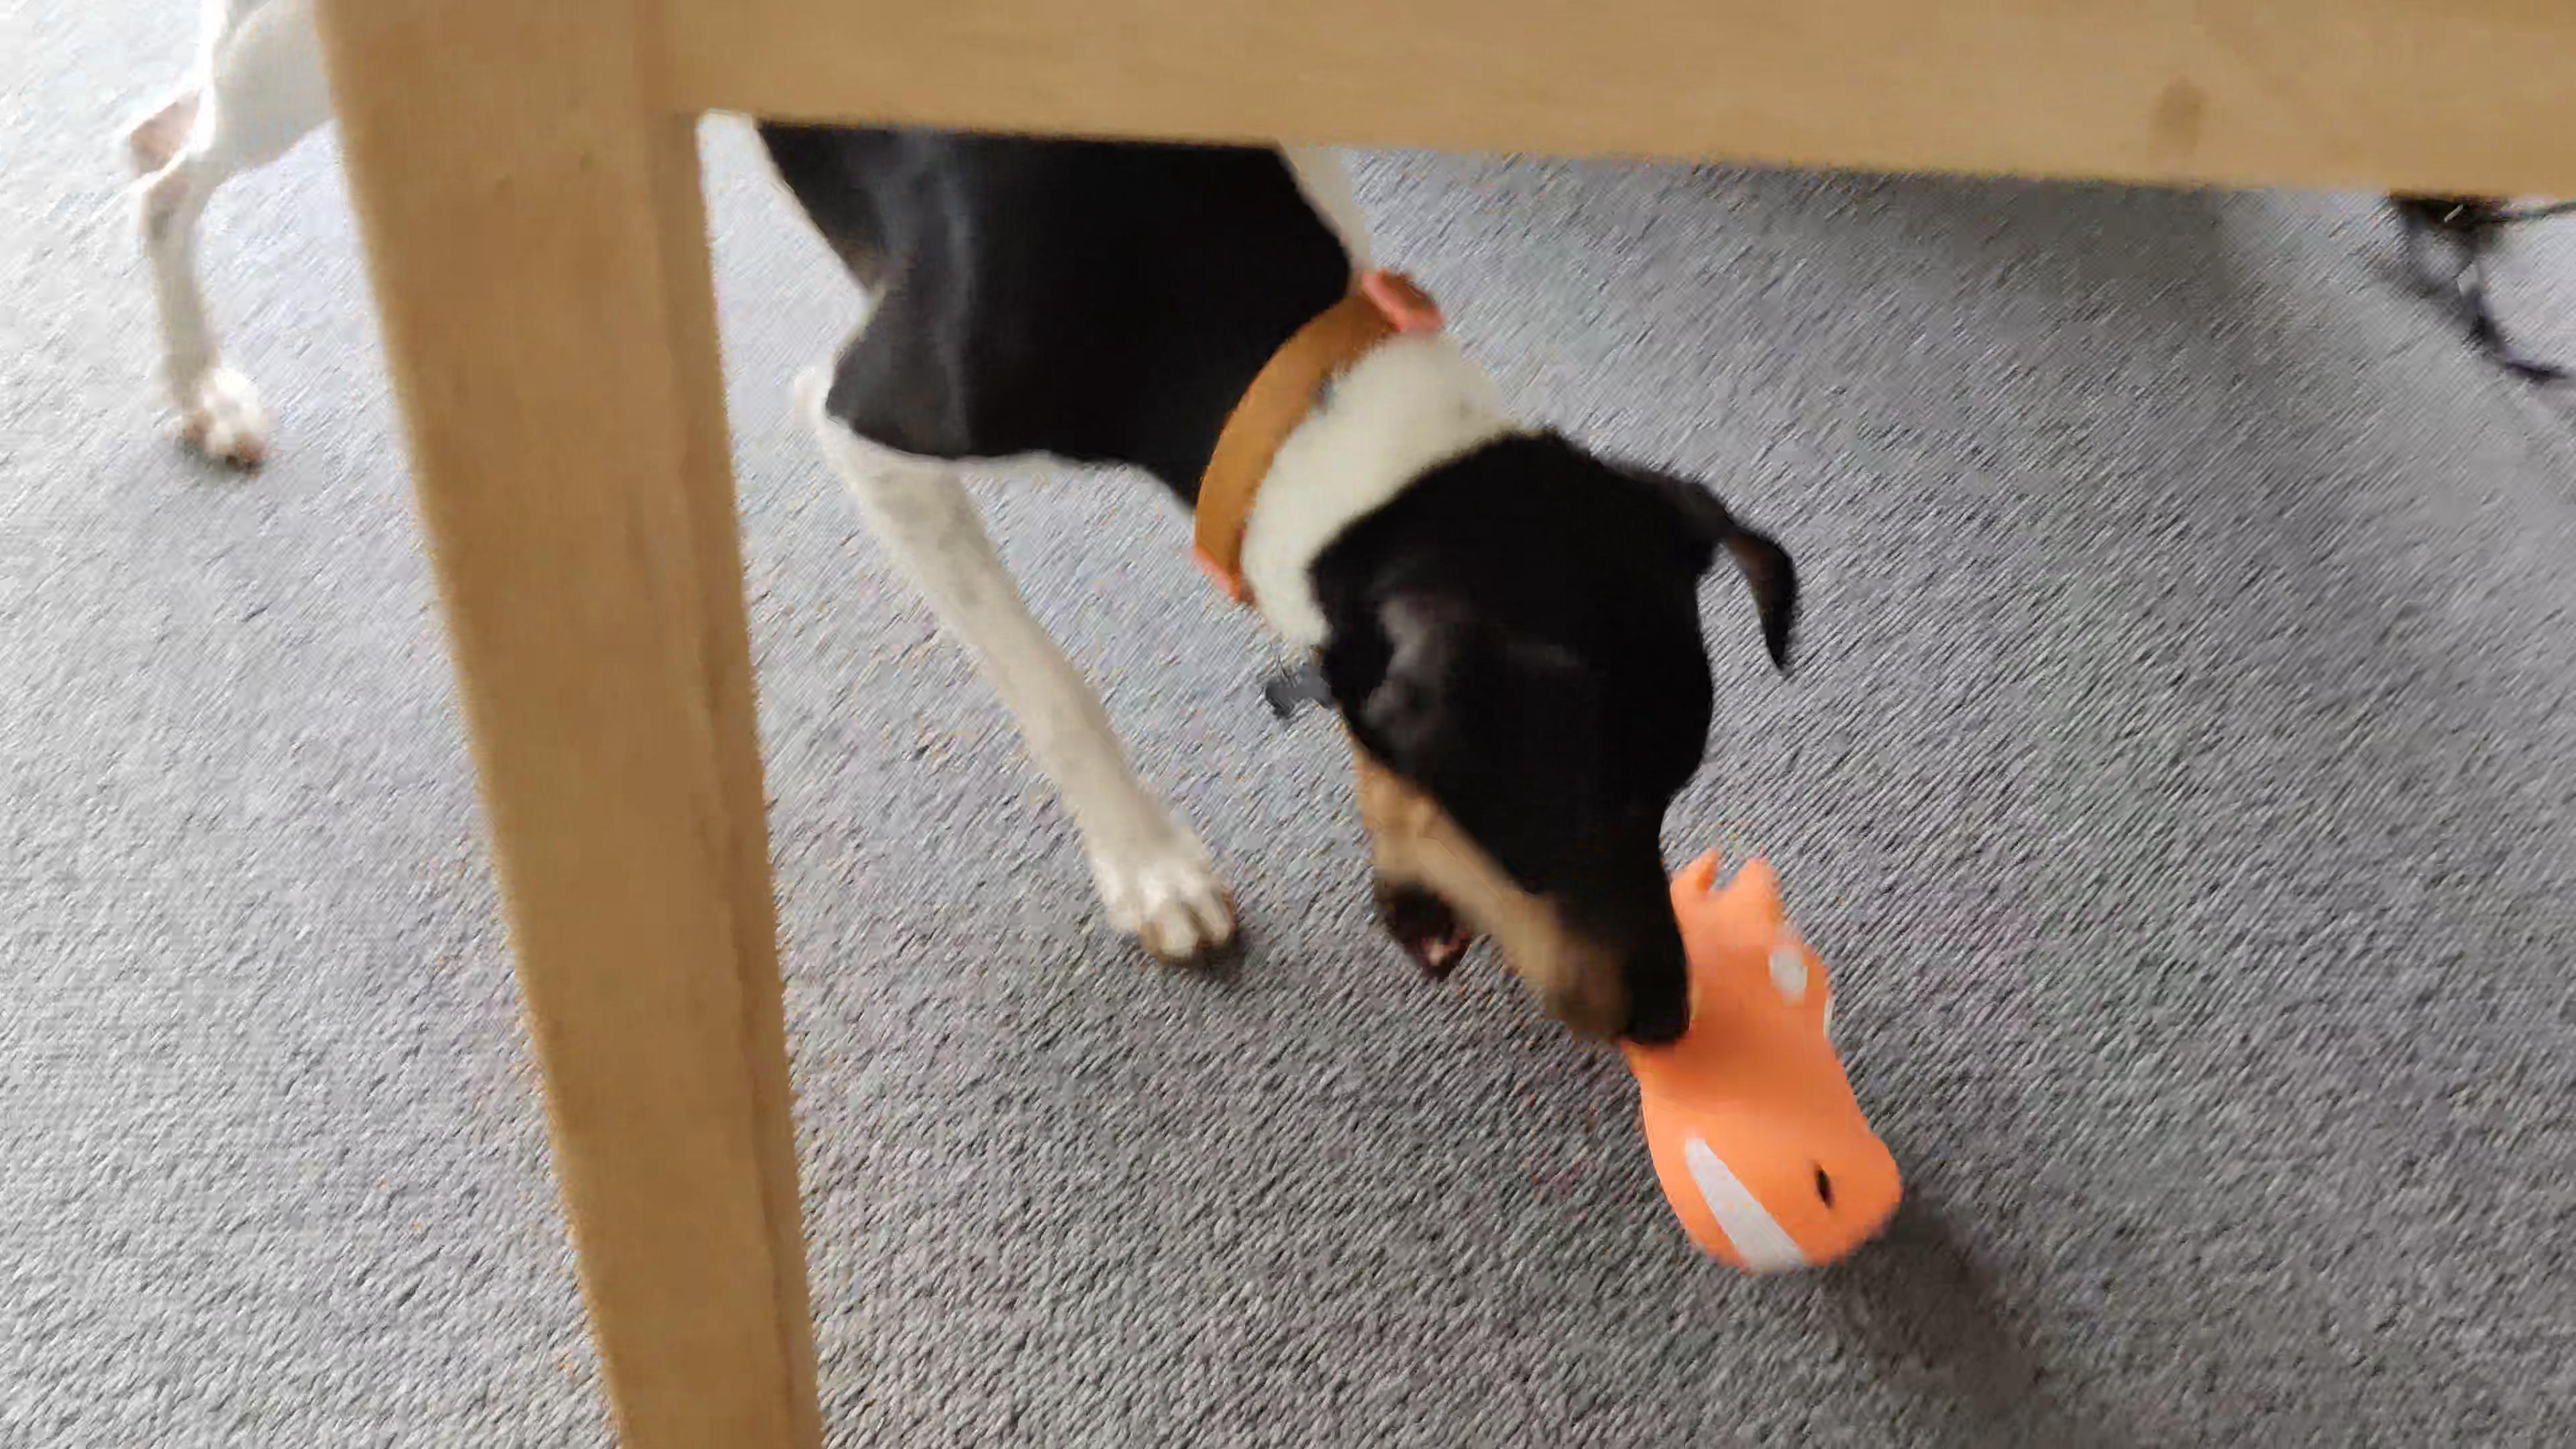Dog: (117, 0, 1813, 1049)
